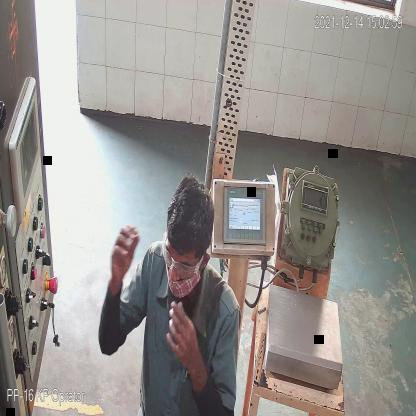goggles: (160, 238, 202, 278)
